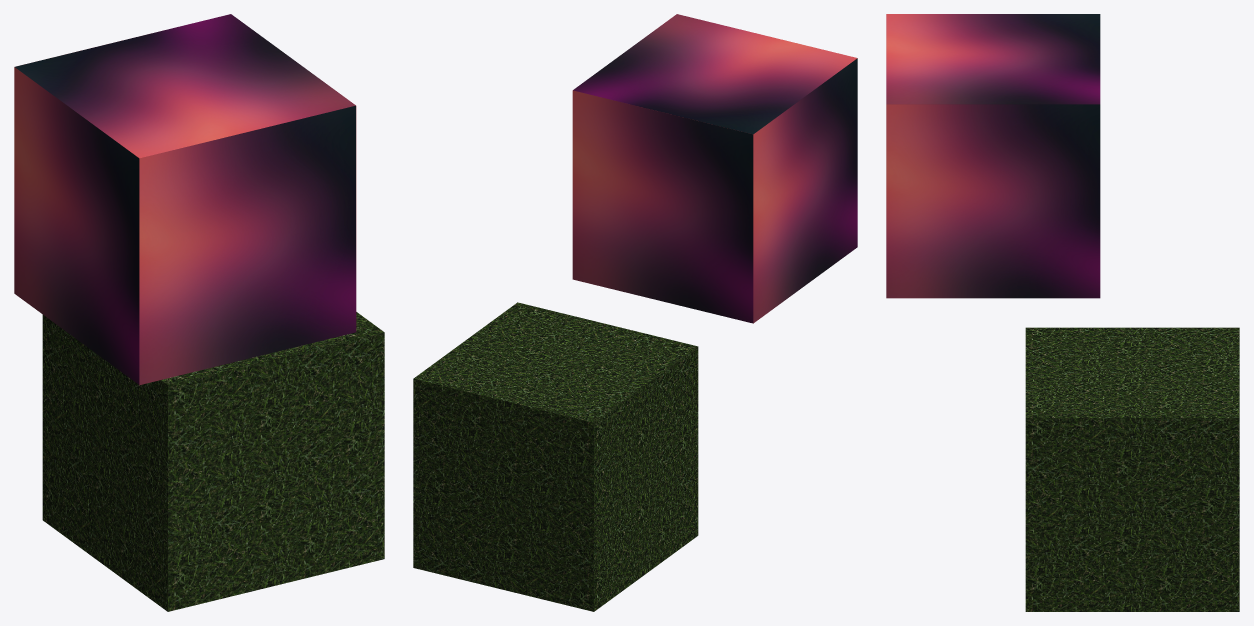
Rendered from DualTex.obj.
The picture shows the model from 3 angles, left to right: view 1: azimuth 30°, elevation 25°; view 2: azimuth 150°, elevation 25°; view 3: azimuth 270°, elevation 25°; orthographic projection. The views are drawn at different scales.
Parts seen in each view (by area): view 1: Cube.001, Cube; view 2: Cube.001, Cube; view 3: Cube.001, Cube.
Boxes of the visible parts, x1=… form: Cube.001: x1=14, y1=14, x2=356, y2=385; Cube: x1=42, y1=312, x2=384, y2=611; Cube.001: x1=572, y1=14, x2=857, y2=323; Cube: x1=413, y1=302, x2=698, y2=611; Cube.001: x1=886, y1=14, x2=1100, y2=298; Cube: x1=1025, y1=327, x2=1239, y2=611.
Bounding box in the file's own units: 3.01 × 4.76 × 3.3.
